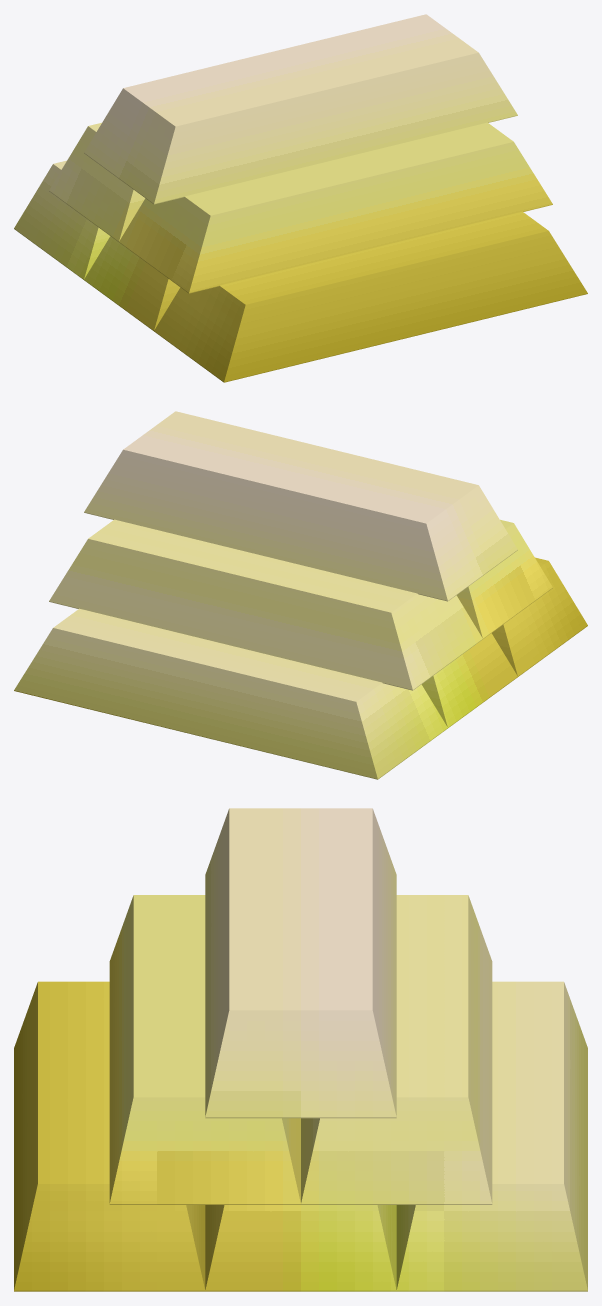
File: gold01.glb
3 renders of one model, top to bottom at view 1: azimuth 30°, elevation 25°; view 2: azimuth 150°, elevation 25°; view 3: azimuth 270°, elevation 25°, orthographic. The views are drawn at different scales.
Bounding box in the file's own units: 0.6 × 0.301 × 0.6.
1 material, 1 textured.
